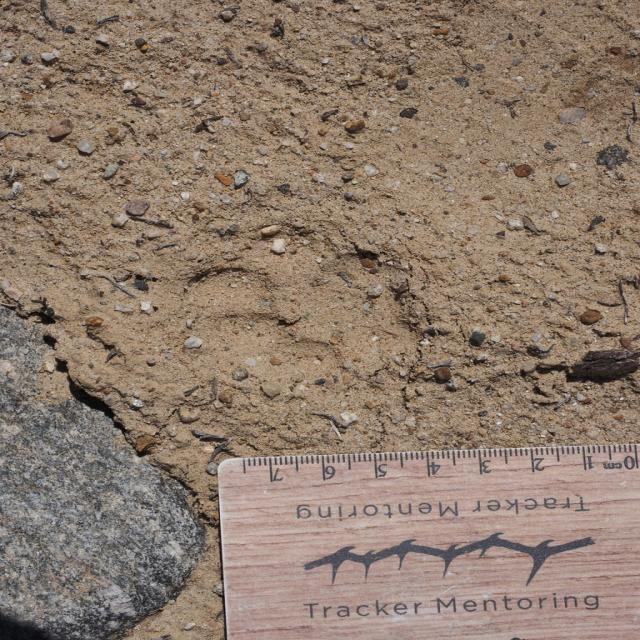felid: (198, 230, 404, 369)
